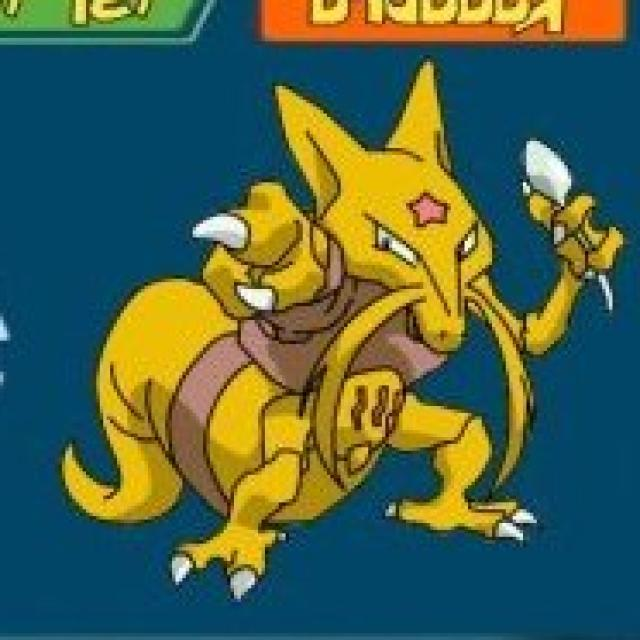Kadabra: (51, 59, 630, 594)
